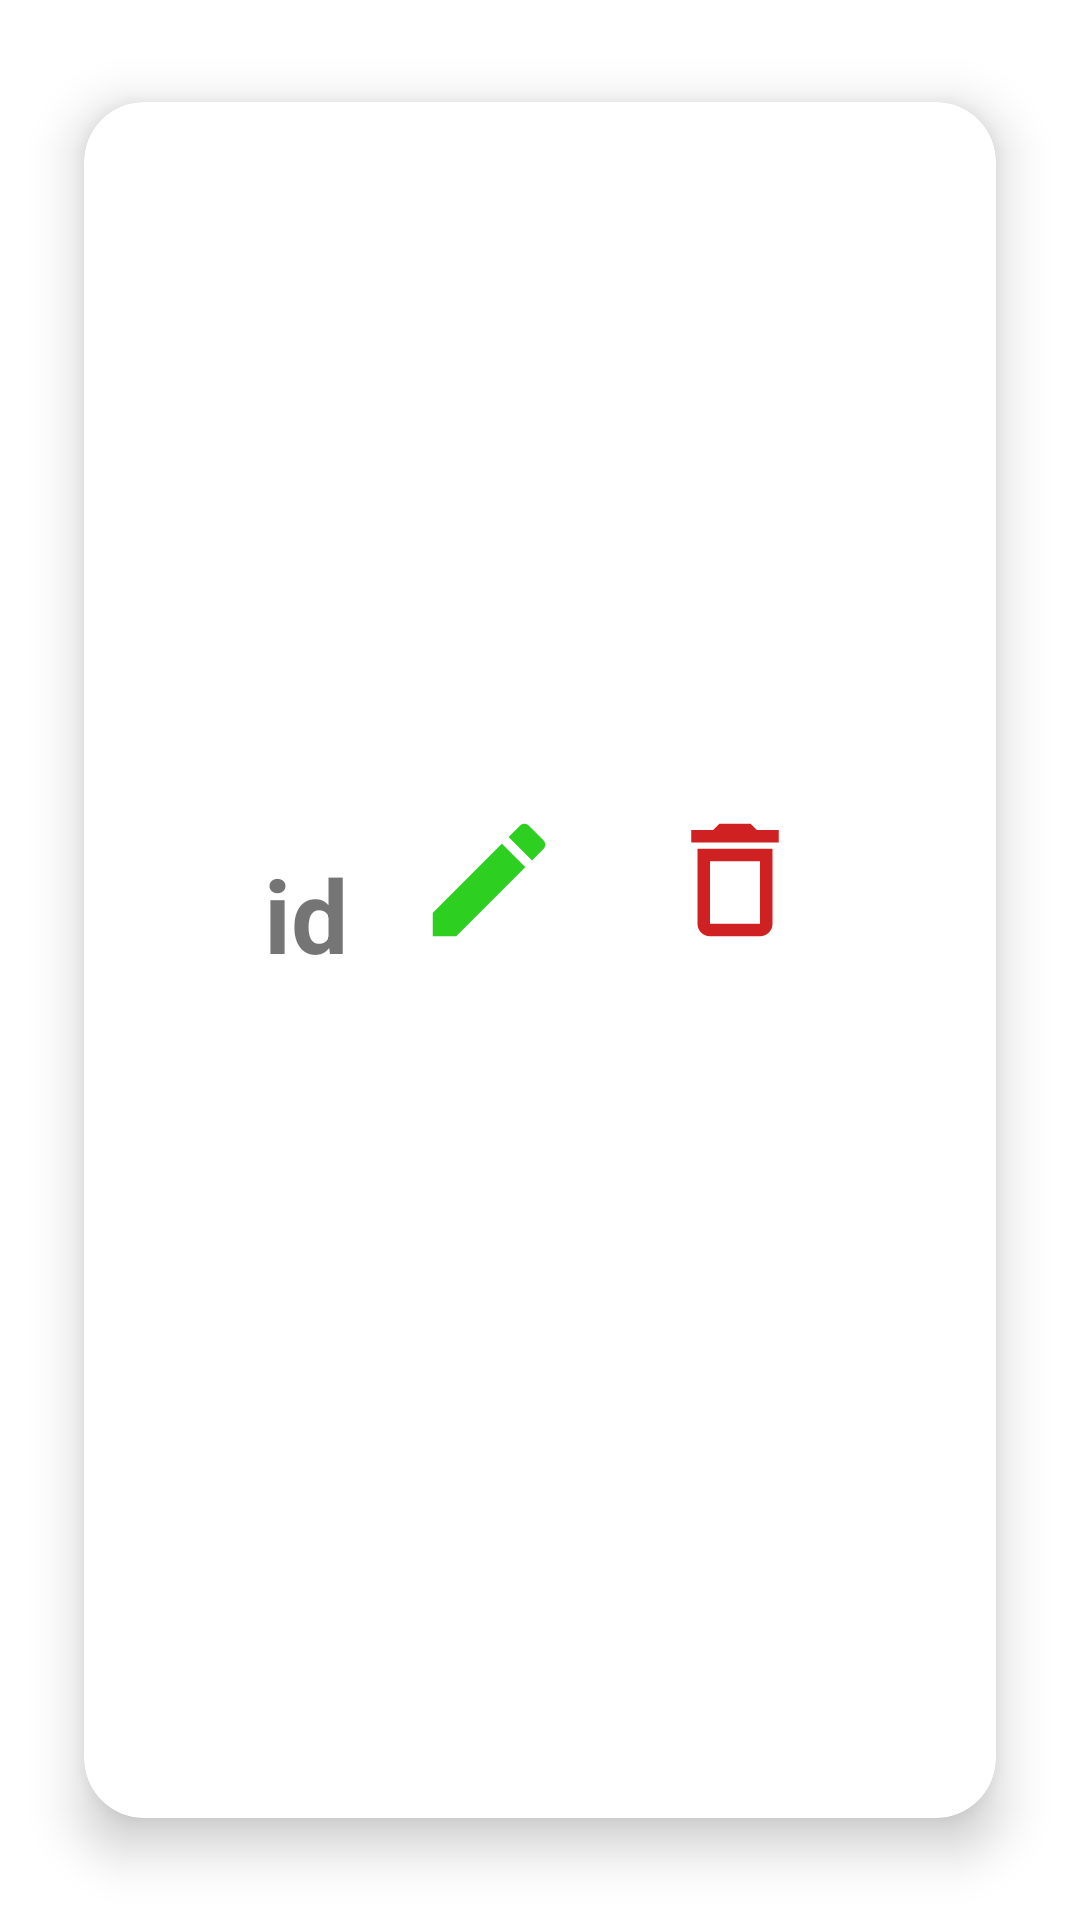

Icons on this 1080px×1920px Android screen, each with the point to tap as point (x, y):
delete: point (735, 880)
write: point (489, 880)
